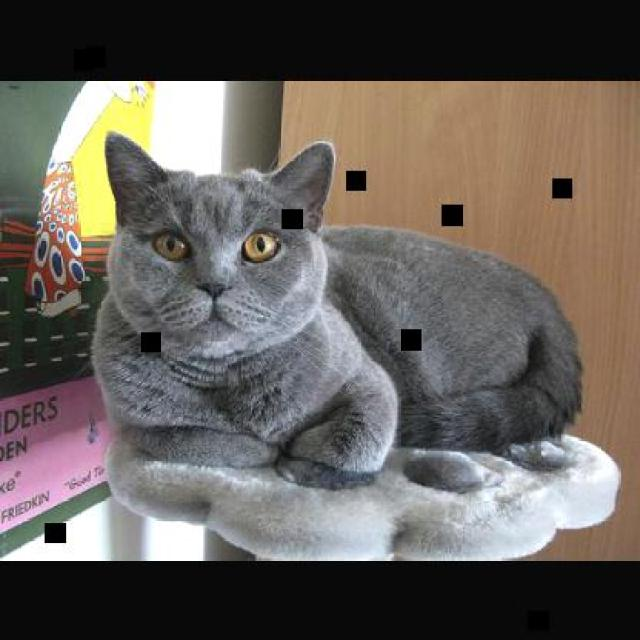unauthorized: (88, 130, 584, 492)
